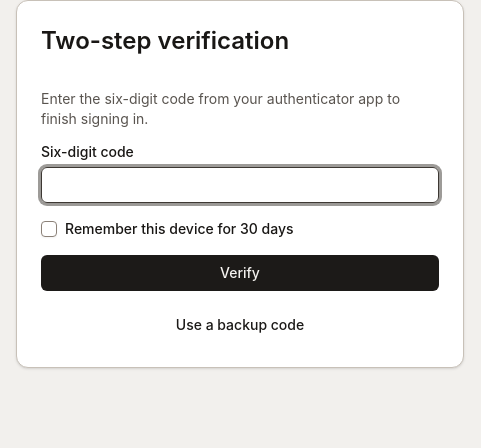
Scenario: TwoFactorChallenge › renders inline error and clears the code on failure
The image size is (481, 448).
In the field labelled "Six-digit code": [240, 185] box [41,167,439,203], type "000000"
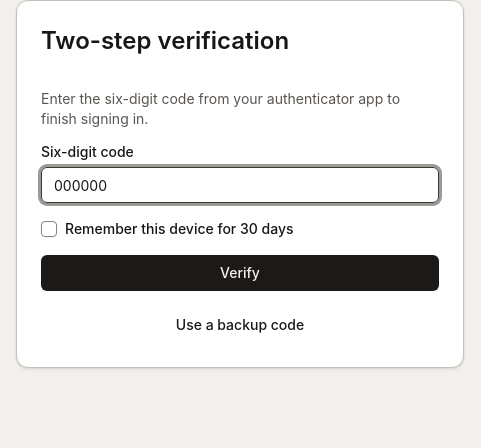
Click the button "Verify": [240, 273] box [41,255,439,291]
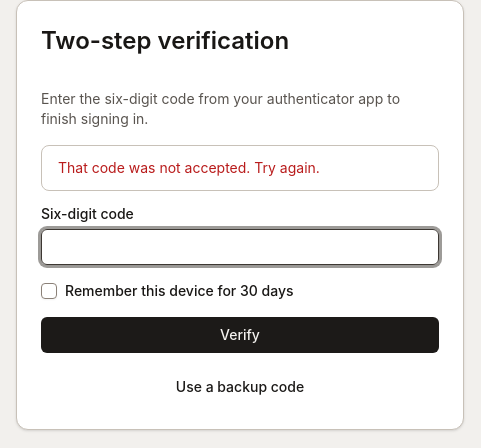
Check: the message "That code was not accepted. Try again." is shown, box [41,145,439,191]
Check: the field labelled "Six-digit code" is empty, box [41,229,439,265]
